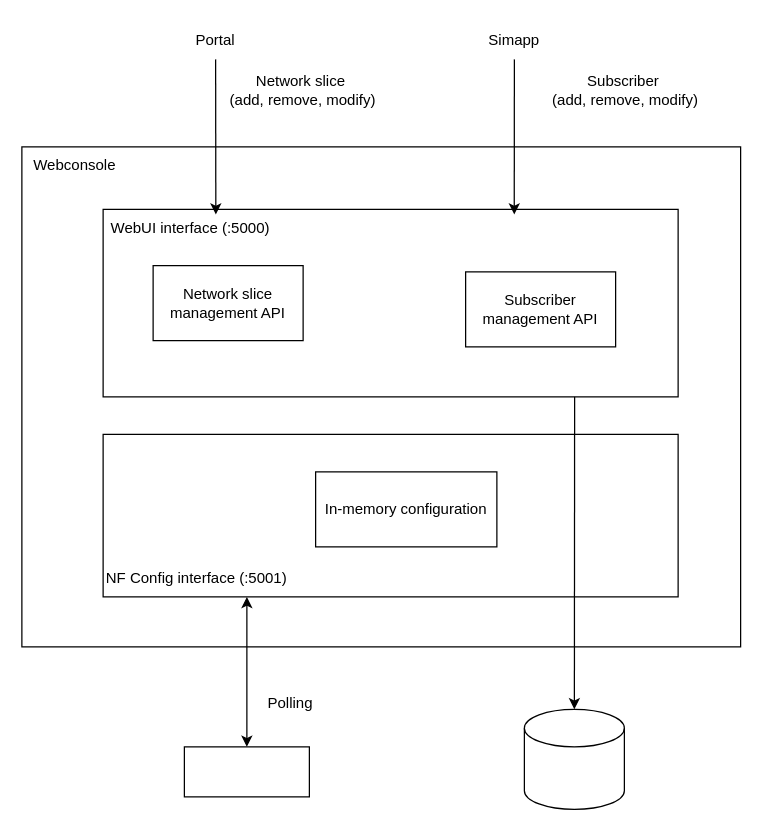
Image size: 763x831. Some labels were removed from this diagram. The shapes that lost their labels are listed below. From the top down, each one's box as (x1, y1, x2, y2) in pixels, then its label:
(183, 746, 309, 797): NF Clients
(523, 708, 624, 809): MongoDB
